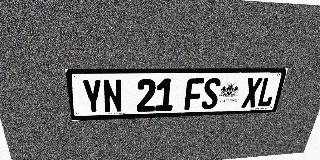1: (155, 78, 175, 111)
2: (137, 79, 156, 112)
F: (184, 78, 204, 110)
L: (256, 77, 278, 107)
N: (102, 79, 123, 113)
S: (201, 78, 221, 109)
X: (241, 77, 263, 108)
Y: (81, 79, 103, 114)
